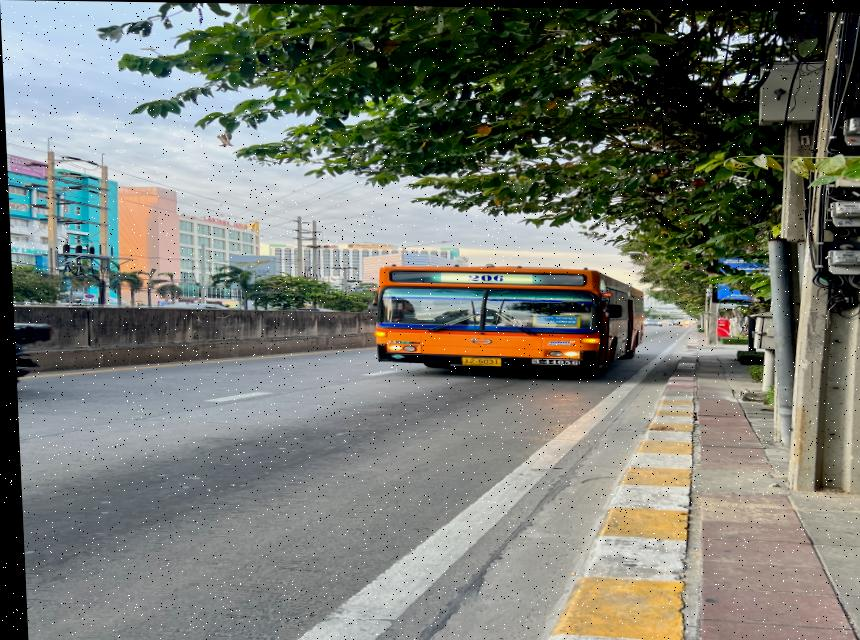BMTA-bus: (368, 263, 644, 374)
Bus Line Number: (456, 270, 509, 284)
Bus Side Number: (527, 356, 578, 364)
Destination Sign: (528, 313, 577, 325)
